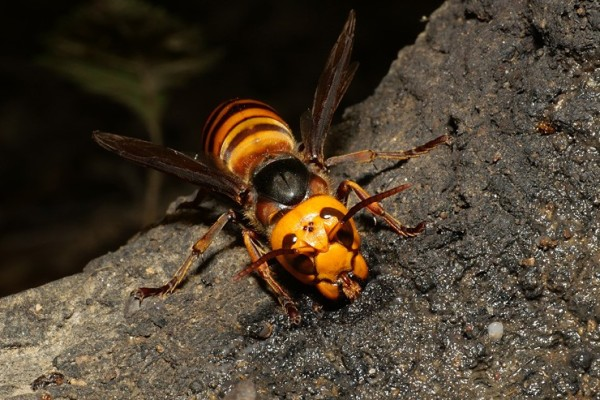asian_giant_hornet: (130, 10, 452, 323)
